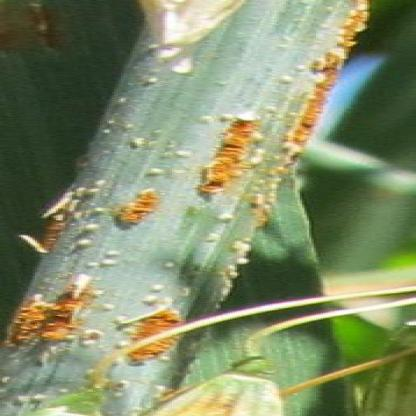wheat Stem Rust: (205, 108, 266, 194), (119, 308, 181, 360), (6, 301, 77, 345), (119, 186, 157, 229), (311, 58, 338, 110), (341, 5, 371, 38), (41, 216, 71, 247)
